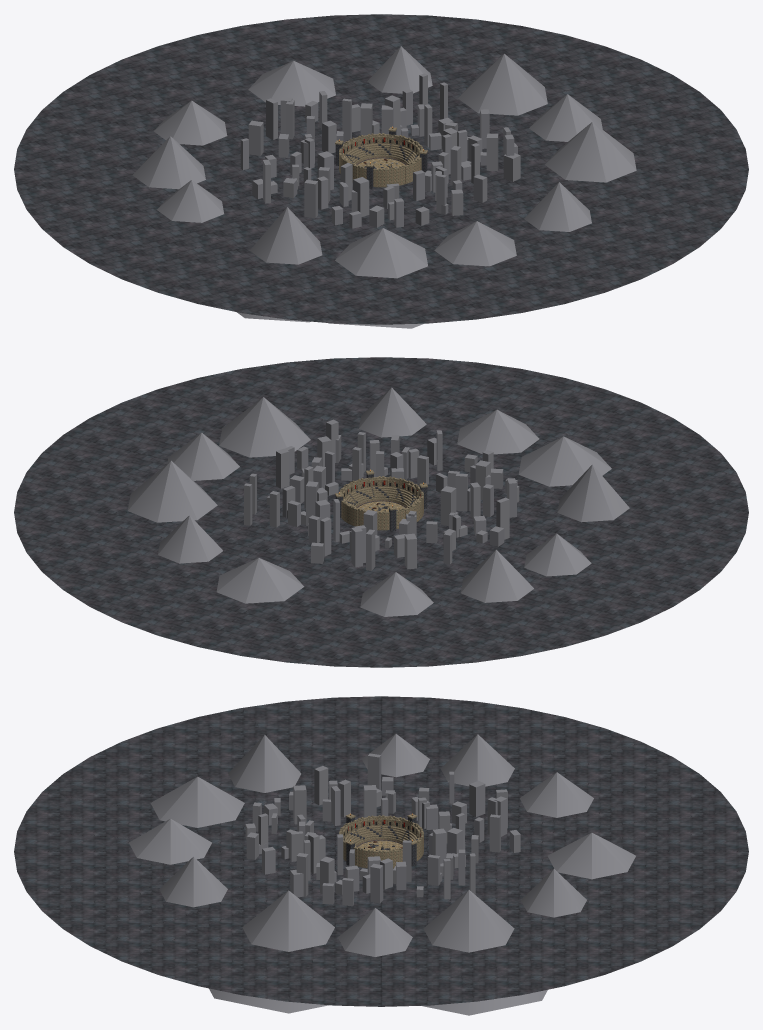
The model's file is colosseum.glb.
The picture shows the model from 3 angles, top to bottom: view 1: azimuth 30°, elevation 25°; view 2: azimuth 150°, elevation 25°; view 3: azimuth 270°, elevation 25°; orthographic projection.
Parts seen in each view (by area): view 1: DistantWorld, OuterWall, Tribunes; view 2: DistantWorld, OuterWall, Tribunes; view 3: DistantWorld, OuterWall, Tribunes.
Part boxes in pixels (x1=…): DistantWorld: x1=14, y1=14, x2=748, y2=328; OuterWall: x1=335, y1=126, x2=427, y2=188; Tribunes: x1=345, y1=144, x2=417, y2=164; DistantWorld: x1=14, y1=357, x2=748, y2=667; OuterWall: x1=335, y1=469, x2=427, y2=531; Tribunes: x1=345, y1=487, x2=417, y2=507; DistantWorld: x1=14, y1=696, x2=748, y2=1015; OuterWall: x1=339, y1=813, x2=423, y2=868; Tribunes: x1=344, y1=826, x2=417, y2=846.
Size of the model in its own units: 800 by 104 by 800.
37 materials, 9 textured.
